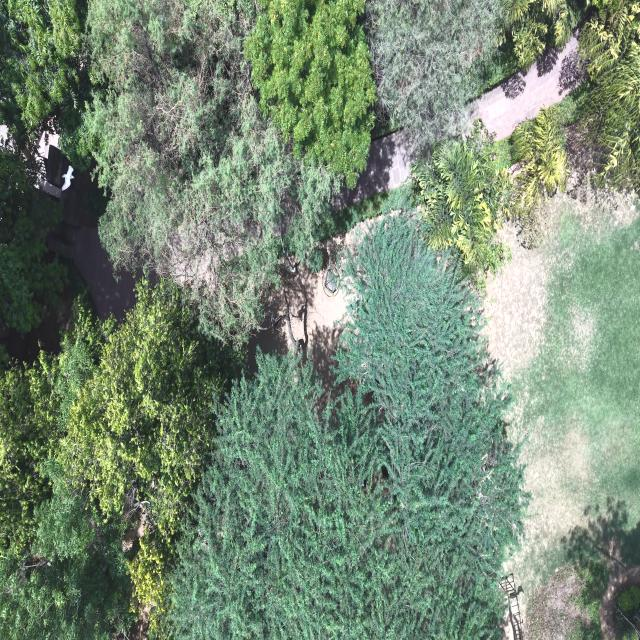DRY_AREA: (485, 196, 639, 614), (485, 196, 639, 606), (49, 170, 138, 319), (248, 256, 348, 385), (248, 265, 346, 384), (524, 566, 589, 639), (599, 565, 639, 639)
VEGETATION_TREE: (0, 0, 639, 639), (0, 217, 524, 639), (0, 0, 633, 342), (172, 217, 524, 639), (2, 2, 374, 340), (0, 0, 332, 342), (173, 355, 522, 639), (84, 1, 331, 342), (0, 280, 227, 639), (0, 281, 220, 639), (364, 0, 639, 286), (414, 0, 639, 282), (245, 0, 583, 180), (337, 218, 518, 553), (56, 280, 226, 628), (509, 197, 639, 639), (493, 196, 639, 587), (245, 0, 507, 181), (56, 279, 222, 532), (58, 280, 219, 533), (0, 348, 133, 639), (361, 0, 590, 156), (499, 0, 639, 246), (244, 0, 375, 186), (0, 460, 132, 639), (0, 321, 87, 576), (366, 0, 504, 147), (516, 497, 639, 639), (412, 127, 510, 281), (0, 0, 89, 169), (480, 95, 576, 247), (567, 0, 639, 193), (0, 145, 65, 332), (0, 353, 58, 557), (1, 0, 82, 126), (45, 291, 113, 428), (484, 0, 586, 87), (509, 106, 566, 245), (525, 544, 608, 639), (127, 524, 178, 637), (502, 0, 582, 65), (0, 2, 35, 143), (324, 183, 411, 238), (567, 549, 608, 639), (571, 553, 607, 621), (509, 1, 547, 65), (614, 585, 639, 639), (616, 607, 639, 639), (616, 586, 640, 612)
